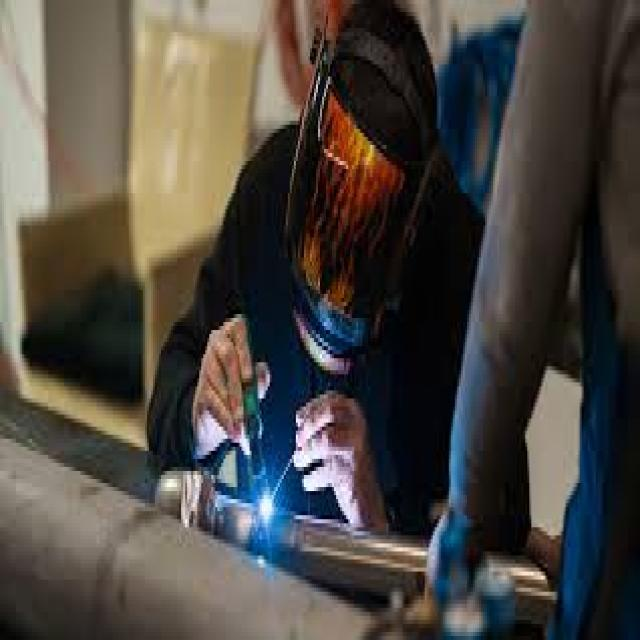welding: (258, 492, 276, 524)
